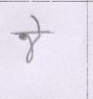e_matra: (29, 15, 45, 31)
